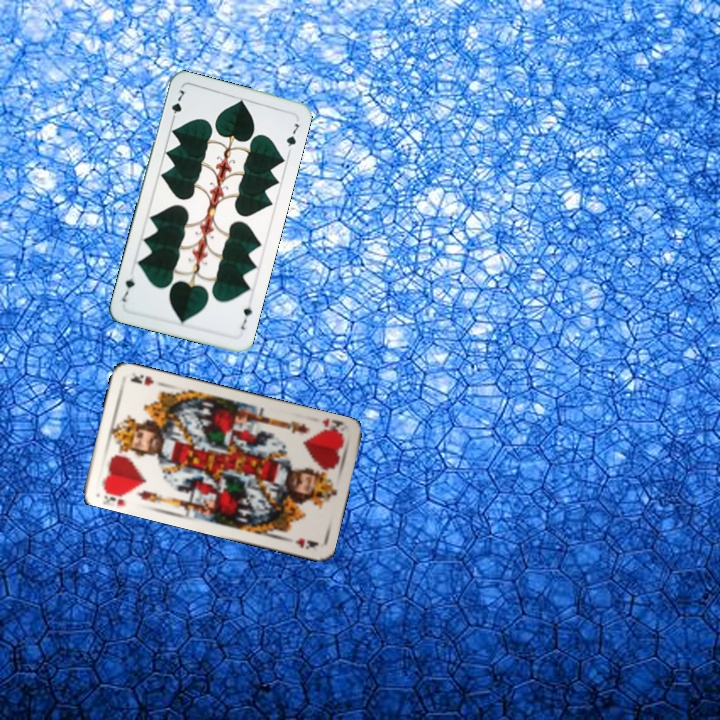G7: (167, 85, 188, 125), (237, 303, 255, 333)
HK: (99, 483, 134, 505), (316, 415, 346, 439)
